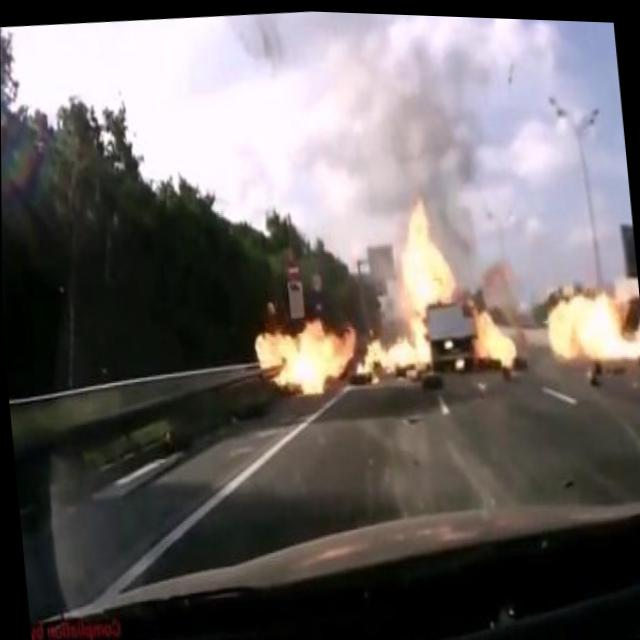fire: (344, 174, 527, 397), (535, 264, 640, 380), (246, 306, 360, 407)
